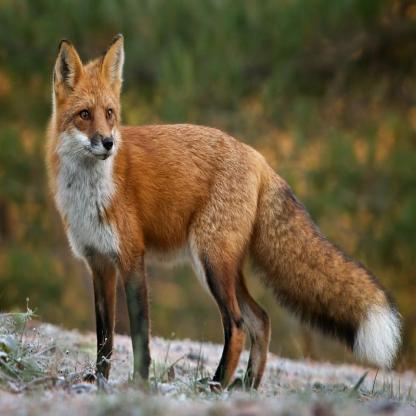raposa: (31, 22, 389, 404)
